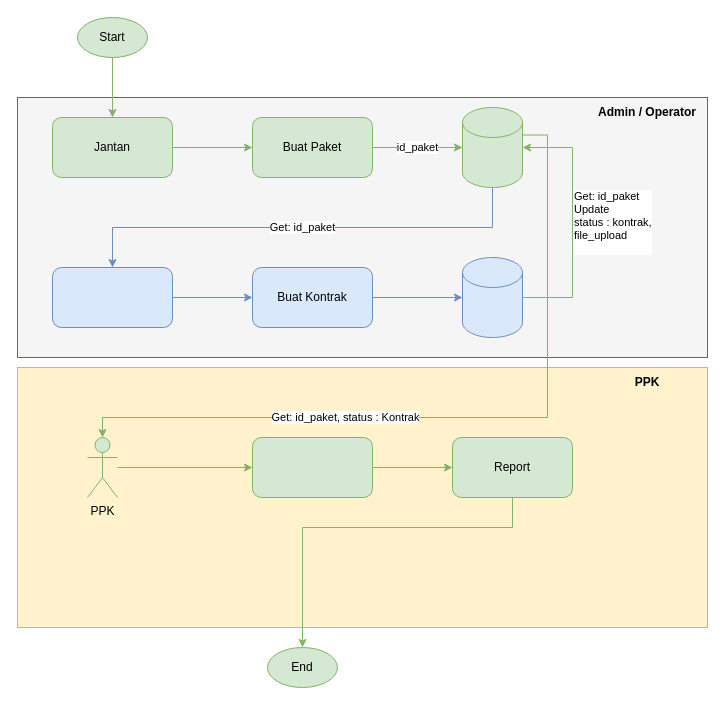
This 725x705 diagram has some shape labels left out. The box of each missing label's shape, as (x1, y1, x2, y2) in pixels:
De-Kontrak: (52, 266, 172, 328)
dekontrak: (462, 256, 522, 338)
new_jantan: (462, 106, 522, 188)
Update Data Keu & Fisik: (252, 436, 372, 498)
